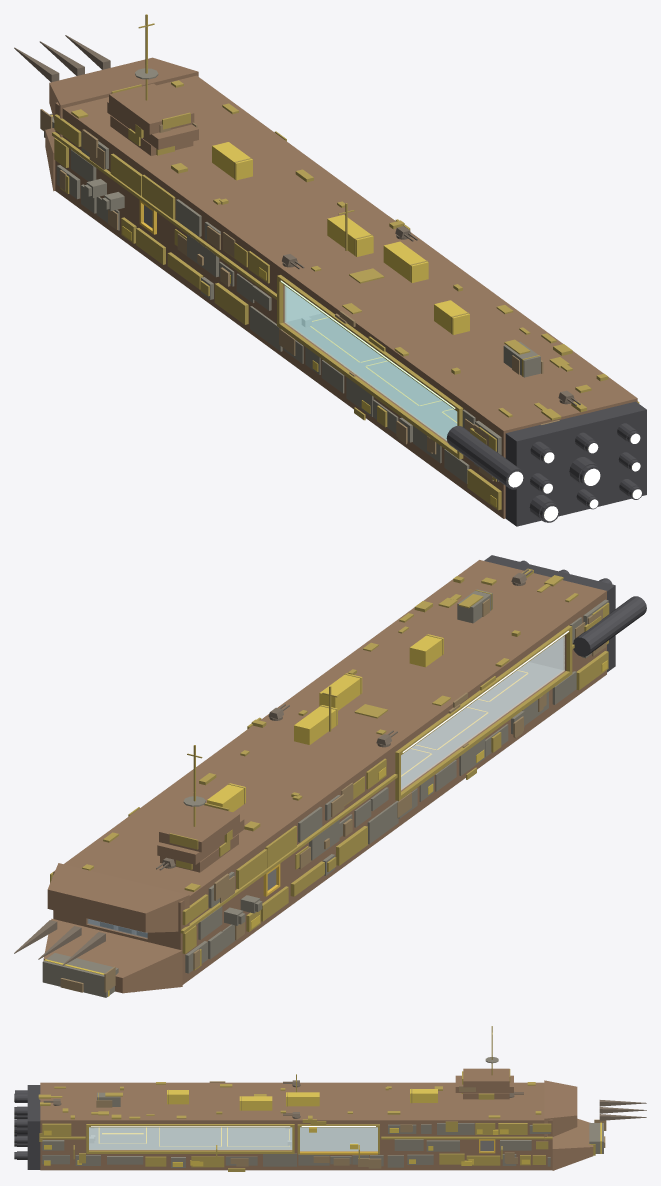
Rendered from ship_MEDIUM_v1.glb.
3 renders of one model, top to bottom at view 1: azimuth 30°, elevation 25°; view 2: azimuth 150°, elevation 25°; view 3: azimuth 270°, elevation 25°, orthographic. The views are drawn at different scales.
Parts seen in each view (by area): view 1: MEDIUM_Hull-col, MEDIUM_Engines, MEDIUM_Trim, MEDIUM_Armor, MEDIUM_HangarShield_Port, MEDIUM_Decks-col, MEDIUM_Accent, MEDIUM_ScrapPlates, MEDIUM_ScrapTrim, MEDIUM_Details, MEDIUM_RamSpikes, MEDIUM_EngineGlow; view 2: MEDIUM_Hull-col, MEDIUM_Trim, MEDIUM_Armor, MEDIUM_HangarShield_Port, MEDIUM_Decks-col, MEDIUM_Accent, MEDIUM_Engines, MEDIUM_ScrapPlates, MEDIUM_ScrapTrim, MEDIUM_Details, MEDIUM_RamSpikes, MEDIUM_Hazard; view 3: MEDIUM_Hull-col, MEDIUM_Trim, MEDIUM_Armor, MEDIUM_HangarShield_Starboard, MEDIUM_Decks-col, MEDIUM_Accent, MEDIUM_Engines, MEDIUM_CargoBayShield, MEDIUM_CargoBayDoor-col, MEDIUM_ScrapPlates, MEDIUM_ScrapTrim, MEDIUM_Details (+3 smaller).
Part boxes in pixels (box(x1,y1,x2,y2)): MEDIUM_Hull-col: box(45, 57, 637, 518); MEDIUM_Engines: box(446, 401, 646, 526); MEDIUM_Trim: box(52, 64, 639, 510); MEDIUM_Armor: box(44, 68, 540, 483); MEDIUM_HangarShield_Port: box(284, 286, 457, 440); MEDIUM_Decks-col: box(287, 313, 457, 438); MEDIUM_Accent: box(51, 115, 496, 507); MEDIUM_ScrapPlates: box(40, 109, 559, 481); MEDIUM_ScrapTrim: box(60, 14, 530, 481); MEDIUM_Details: box(71, 80, 608, 420); MEDIUM_RamSpikes: box(14, 35, 110, 82); MEDIUM_EngineGlow: box(508, 433, 641, 521); MEDIUM_Hull-col: box(43, 560, 606, 993); MEDIUM_Trim: box(180, 590, 608, 953); MEDIUM_Armor: box(42, 589, 608, 997); MEDIUM_HangarShield_Port: box(401, 636, 564, 790); MEDIUM_Decks-col: box(88, 662, 562, 934); MEDIUM_Accent: box(44, 634, 607, 996); MEDIUM_Engines: box(484, 555, 646, 672); MEDIUM_ScrapPlates: box(60, 598, 606, 992); MEDIUM_ScrapTrim: box(50, 594, 609, 970); MEDIUM_Details: box(82, 568, 578, 891); MEDIUM_RamSpikes: box(14, 920, 105, 965); MEDIUM_Hazard: box(263, 670, 528, 896); MEDIUM_Hull-col: box(40, 1068, 593, 1170); MEDIUM_Trim: box(40, 1055, 552, 1167); MEDIUM_Armor: box(42, 1057, 603, 1167); MEDIUM_HangarShield_Starboard: box(89, 1127, 292, 1149); MEDIUM_Decks-col: box(89, 1127, 292, 1149); MEDIUM_Accent: box(44, 1089, 601, 1166); MEDIUM_Engines: box(14, 1085, 40, 1169); MEDIUM_CargoBayShield: box(300, 1127, 377, 1151); MEDIUM_CargoBayDoor-col: box(300, 1127, 377, 1150); MEDIUM_ScrapPlates: box(39, 1081, 606, 1168); MEDIUM_ScrapTrim: box(39, 1026, 595, 1171); MEDIUM_Details: box(38, 1082, 541, 1119).
Bounding box in the file's own units: 26.6 × 32.21 × 149.
